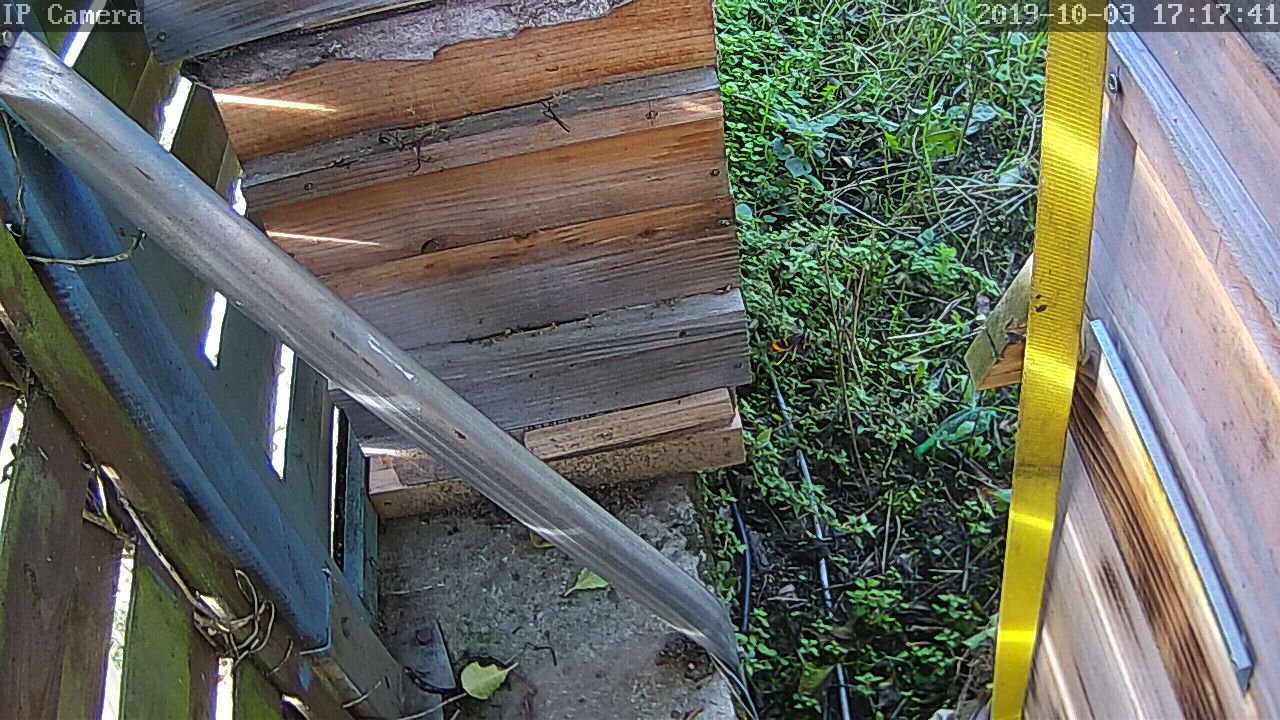hornet: (759, 326, 803, 364), (969, 464, 1002, 510)
